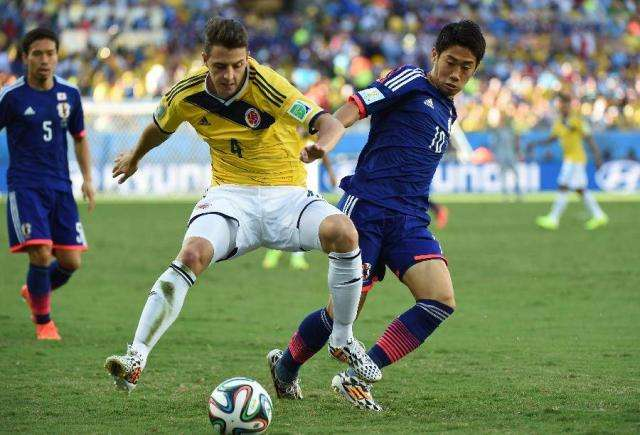football: (208, 377, 274, 434)
